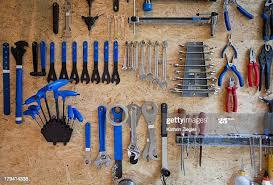wrench: (169, 87, 218, 94), (170, 74, 217, 81), (176, 47, 214, 55), (172, 68, 215, 75), (172, 61, 214, 68), (176, 55, 213, 61), (173, 82, 215, 87), (175, 42, 208, 48)
